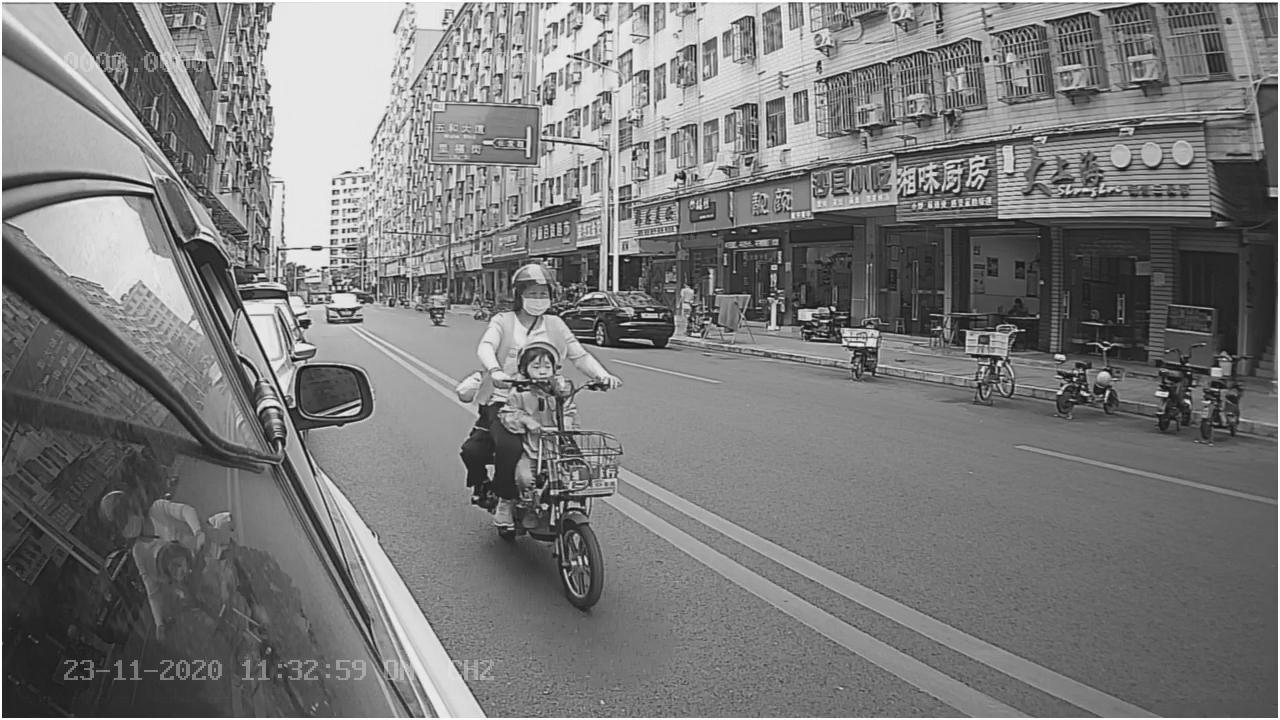person: (482, 253, 591, 379)
